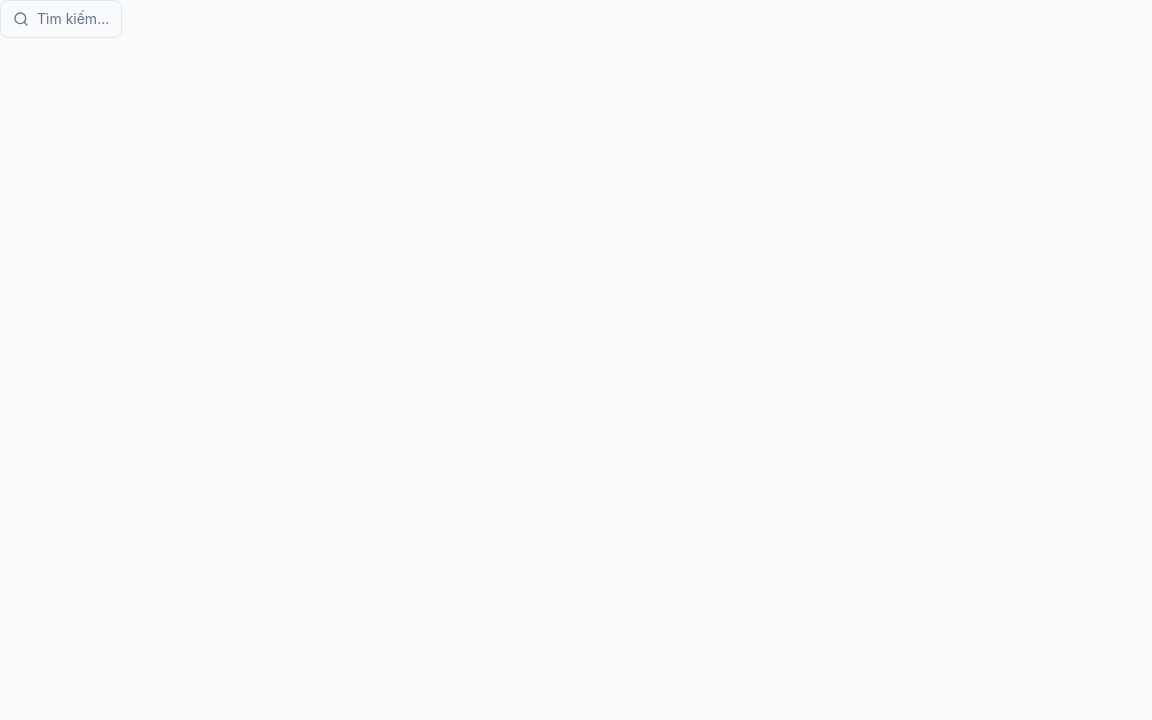
Test: Global search › shows authorized results and supports arrow navigation
The width and height of the screenshot is (1152, 720).
Press k
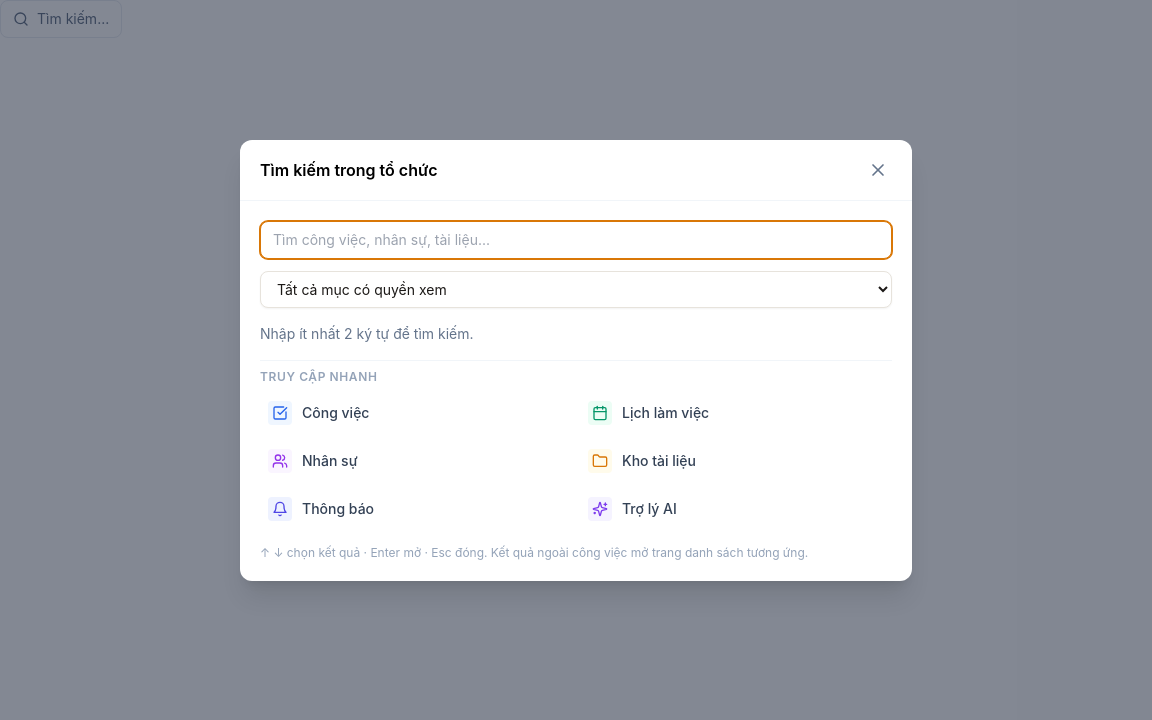
Type "Báo cáo" into the field named "Từ khóa tìm kiếm" at x=576, y=240, box x1=260 y1=220 x2=892 y2=258
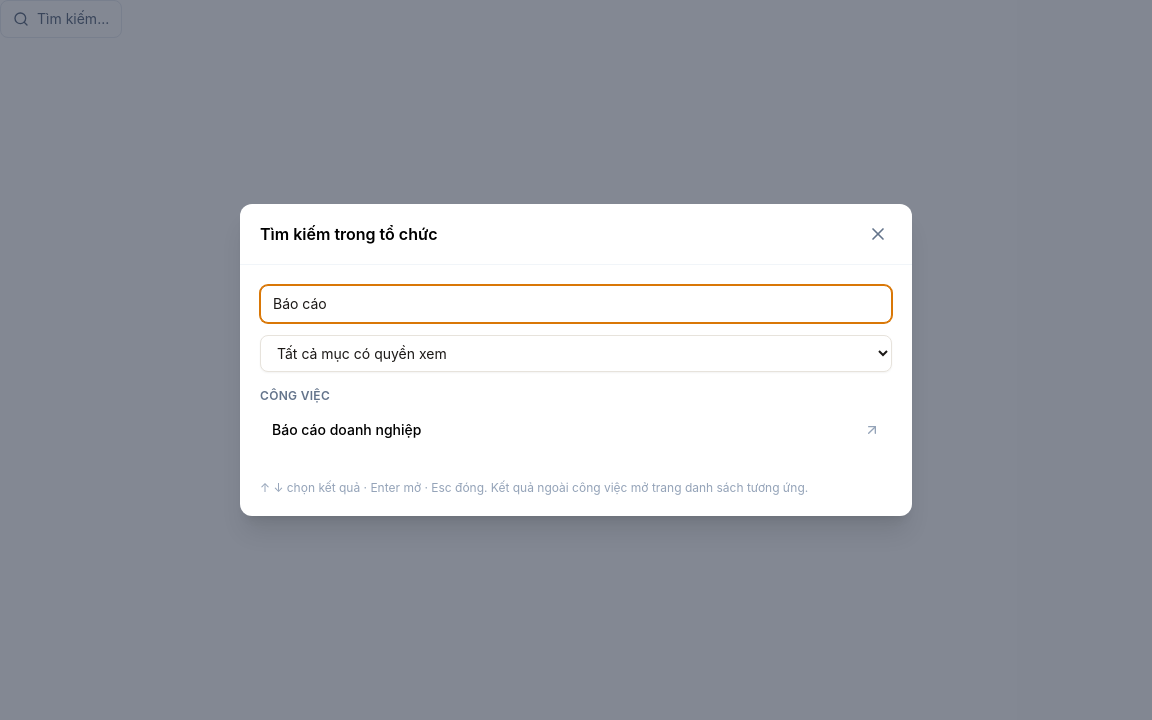
Press ArrowDown in the field named "Từ khóa tìm kiếm", box x1=260 y1=285 x2=892 y2=323
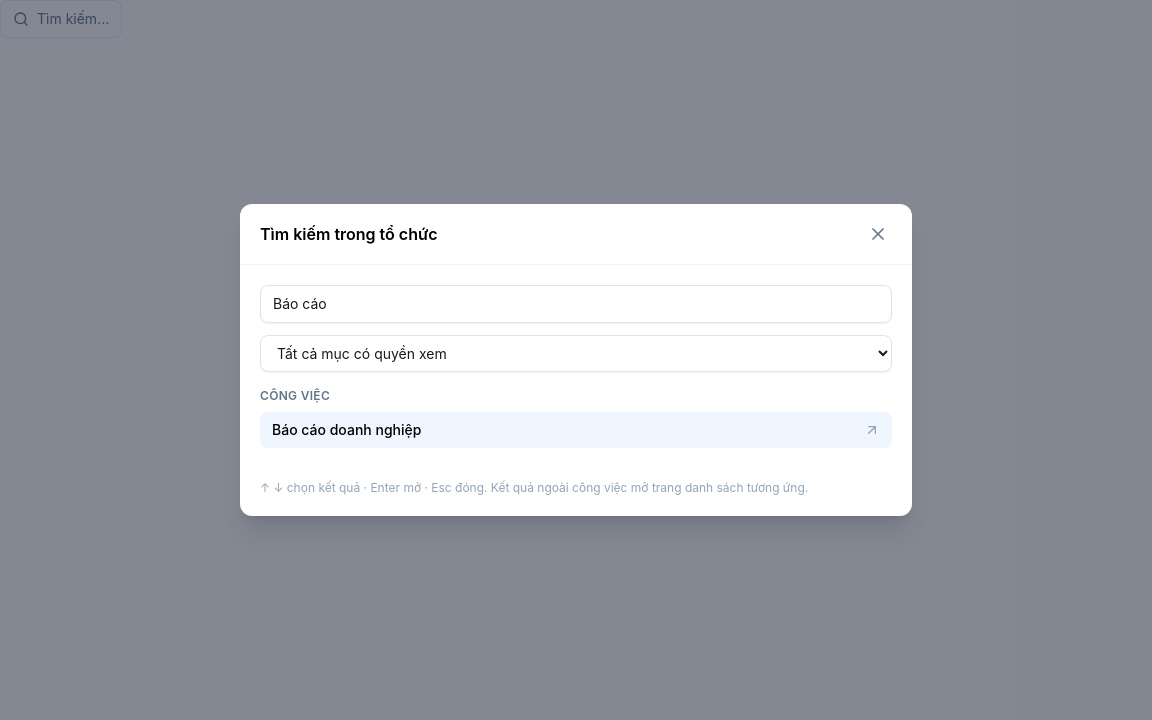
Click the link "Báo cáo doanh nghiệp" at x=347, y=430, box x1=260 y1=412 x2=892 y2=448
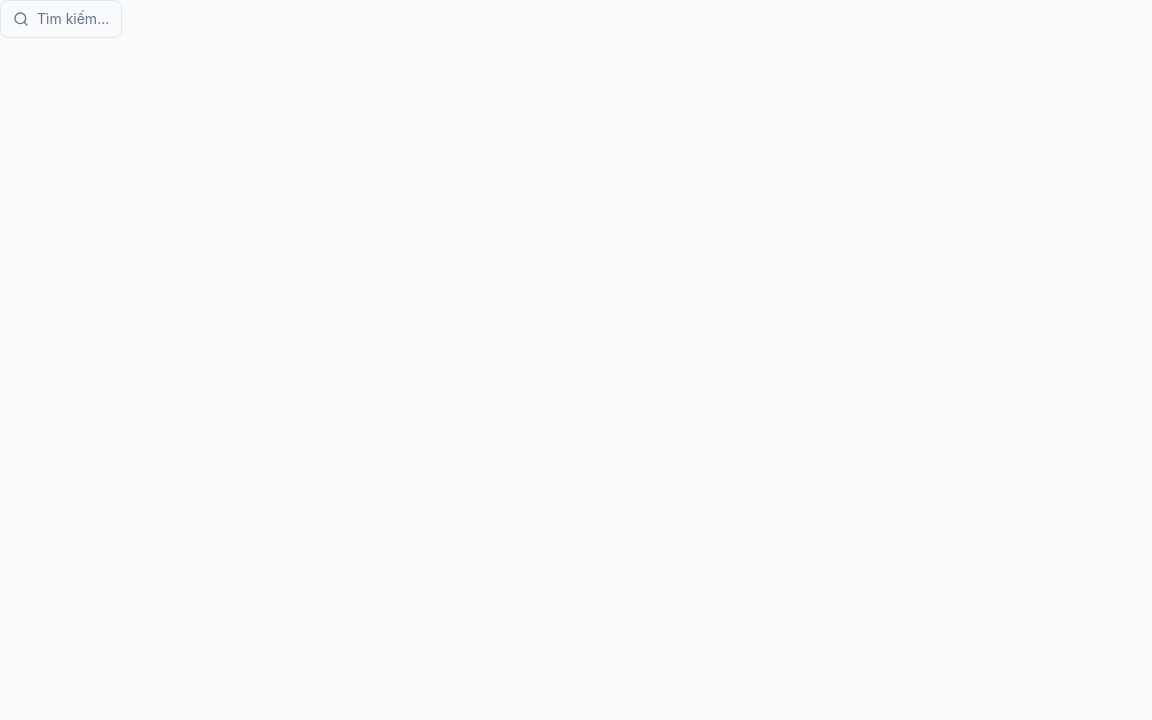
Expected: the dialog is gone
